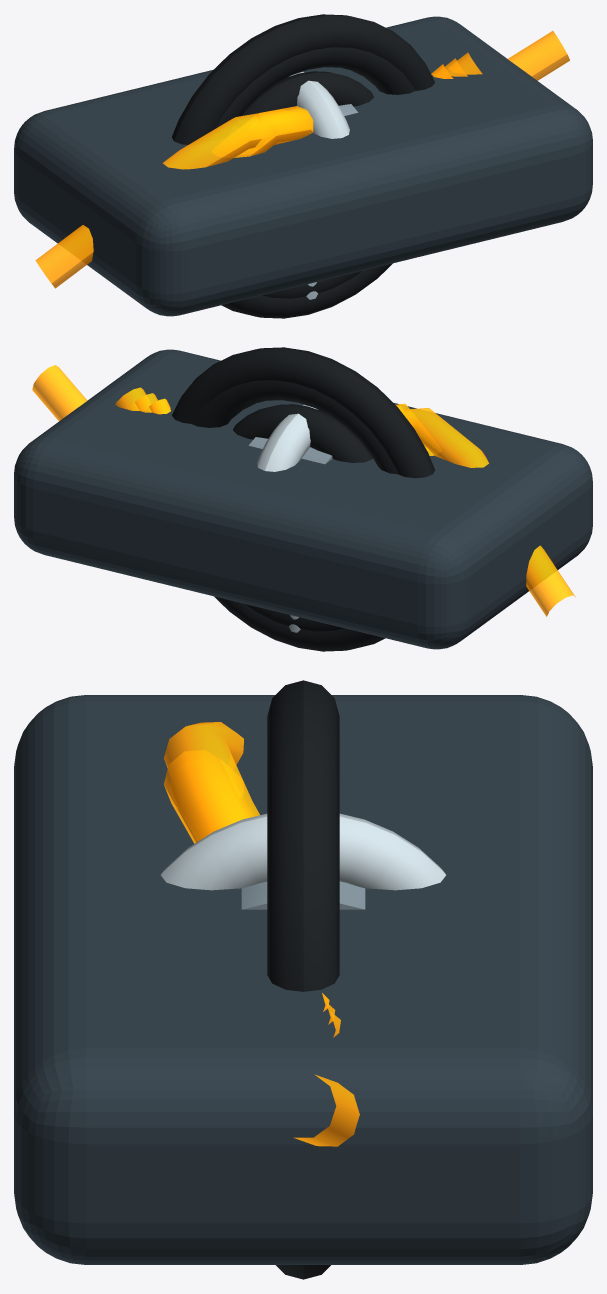
File: body_01.glb
3 views of the same model, one above another, from view 1: azimuth 30°, elevation 25°; view 2: azimuth 150°, elevation 25°; view 3: azimuth 270°, elevation 25° (orthographic). The views are drawn at different scales.
Visible parts, largest first — view 1: asset_mesh__body_0008__reference_body, asset_mesh__body_0026__service_element, asset_mesh__body_0098__fluid_path, asset_mesh__body_0024__service_element, asset_mesh__body_0036__service_element, asset_mesh__body_0020__fluid_path, asset_mesh__body_0063__functional_ring; view 2: asset_mesh__body_0008__reference_body, asset_mesh__body_0026__service_element, asset_mesh__body_0098__fluid_path, asset_mesh__body_0024__service_element, asset_mesh__body_0036__service_element, asset_mesh__body_0063__functional_ring, asset_mesh__body_0020__fluid_path, asset_mesh__body_0063__rotor; view 3: asset_mesh__body_0008__reference_body, asset_mesh__body_0026__service_element, asset_mesh__body_0063__functional_ring, asset_mesh__body_0020__fluid_path, asset_mesh__body_0098__fluid_path, asset_mesh__body_0063__rotor.
Part boxes in pixels (<box>): asset_mesh__body_0008__reference_body: <box>14,16,592,316</box>; asset_mesh__body_0026__service_element: <box>172,14,434,318</box>; asset_mesh__body_0098__fluid_path: <box>35,31,569,288</box>; asset_mesh__body_0024__service_element: <box>215,47,415,298</box>; asset_mesh__body_0036__service_element: <box>240,71,373,116</box>; asset_mesh__body_0020__fluid_path: <box>234,52,482,157</box>; asset_mesh__body_0063__functional_ring: <box>289,71,349,138</box>; asset_mesh__body_0008__reference_body: <box>14,349,592,649</box>; asset_mesh__body_0026__service_element: <box>172,347,434,651</box>; asset_mesh__body_0098__fluid_path: <box>32,365,575,616</box>; asset_mesh__body_0024__service_element: <box>191,380,397,631</box>; asset_mesh__body_0036__service_element: <box>233,404,372,462</box>; asset_mesh__body_0063__functional_ring: <box>257,404,317,471</box>; asset_mesh__body_0020__fluid_path: <box>115,387,434,455</box>; asset_mesh__body_0063__rotor: <box>249,437,332,464</box>; asset_mesh__body_0008__reference_body: <box>14,695,592,1264</box>; asset_mesh__body_0026__service_element: <box>267,680,339,1279</box>; asset_mesh__body_0063__functional_ring: <box>161,813,445,890</box>; asset_mesh__body_0020__fluid_path: <box>164,750,340,1037</box>; asset_mesh__body_0098__fluid_path: <box>164,722,359,1146</box>; asset_mesh__body_0063__rotor: <box>241,881,365,909</box>.
Bounding box in the file's own units: 1.73 × 0.9164 × 0.882.
